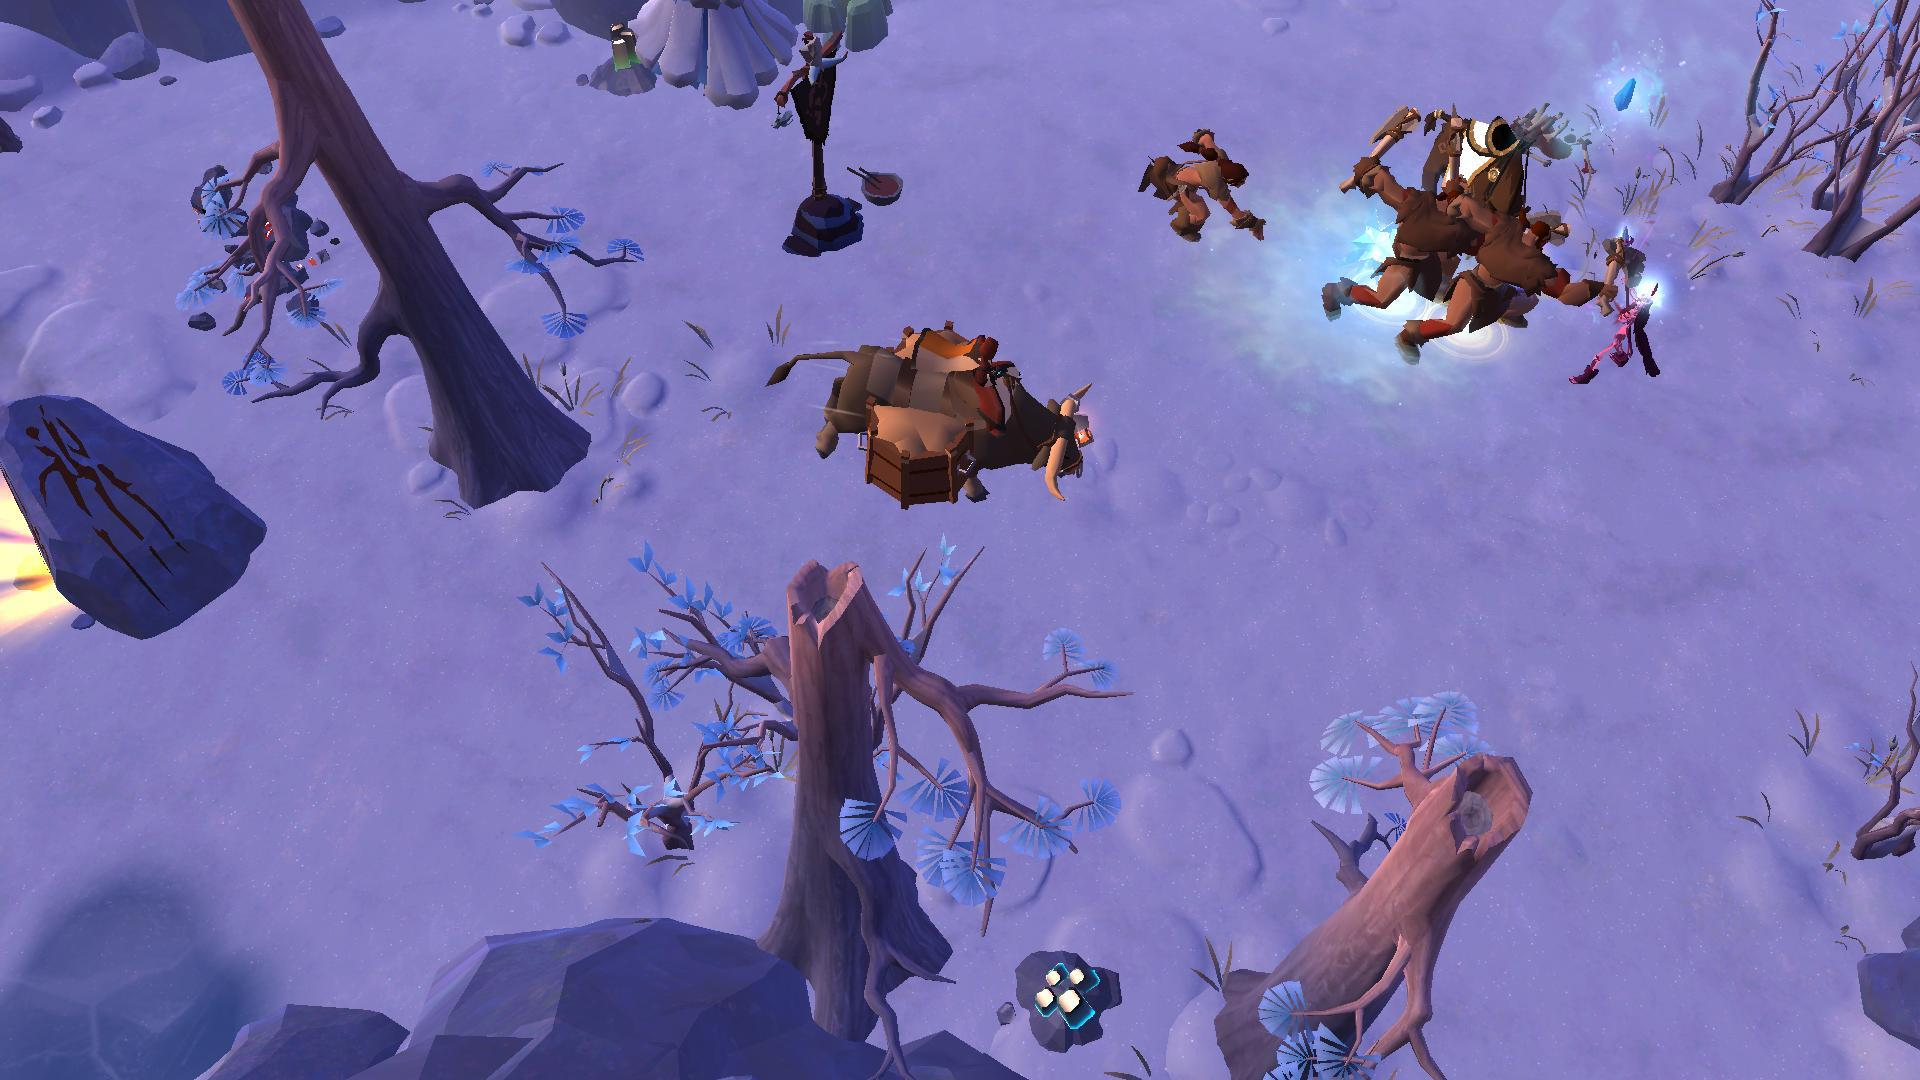enemy_factionKeeper: (1408, 102, 1542, 314)
ore_t3: (603, 20, 637, 84)
ore_t4: (1029, 961, 1097, 1029)
